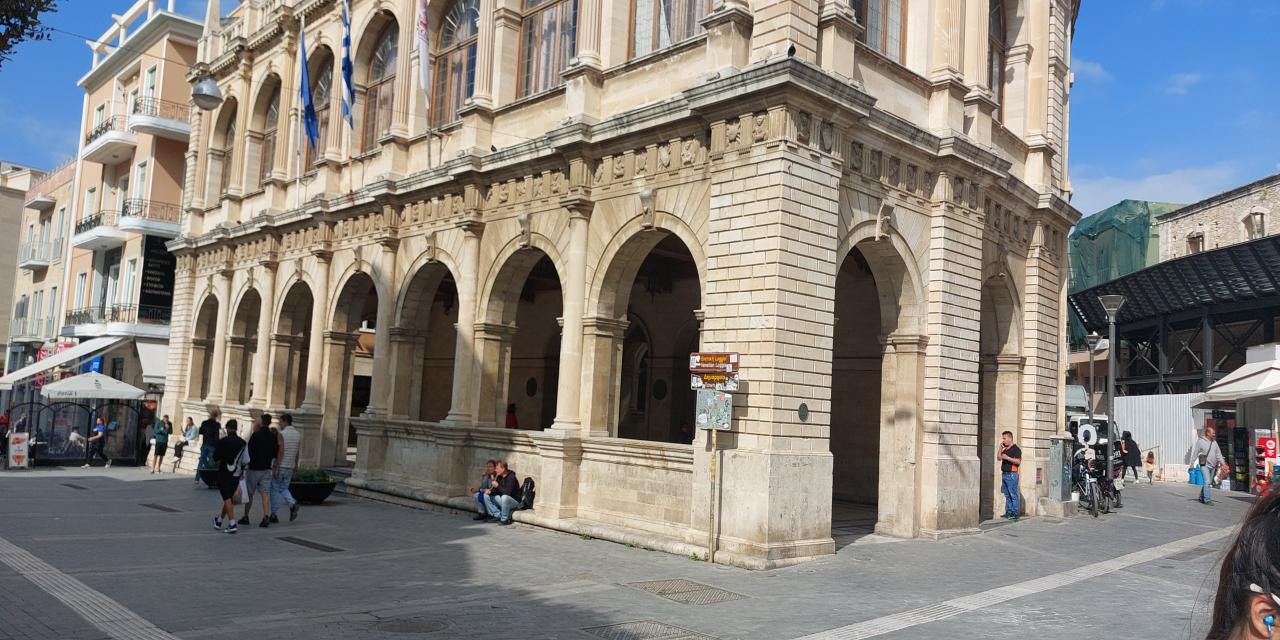Loggia: (146, 1, 1088, 565)
